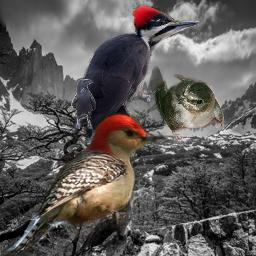Crow: (71, 79, 96, 129)
Swallow: (145, 74, 224, 145)
Woodpecker: (5, 110, 173, 256), (68, 4, 203, 163)
